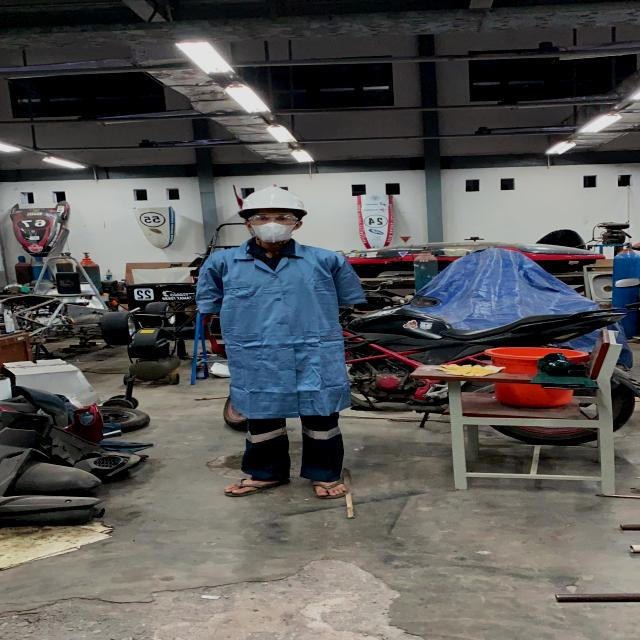face_mask: (248, 212, 301, 243)
glasses: (242, 213, 305, 226)
head_helmet: (238, 186, 306, 214)
person: (198, 187, 364, 503)
